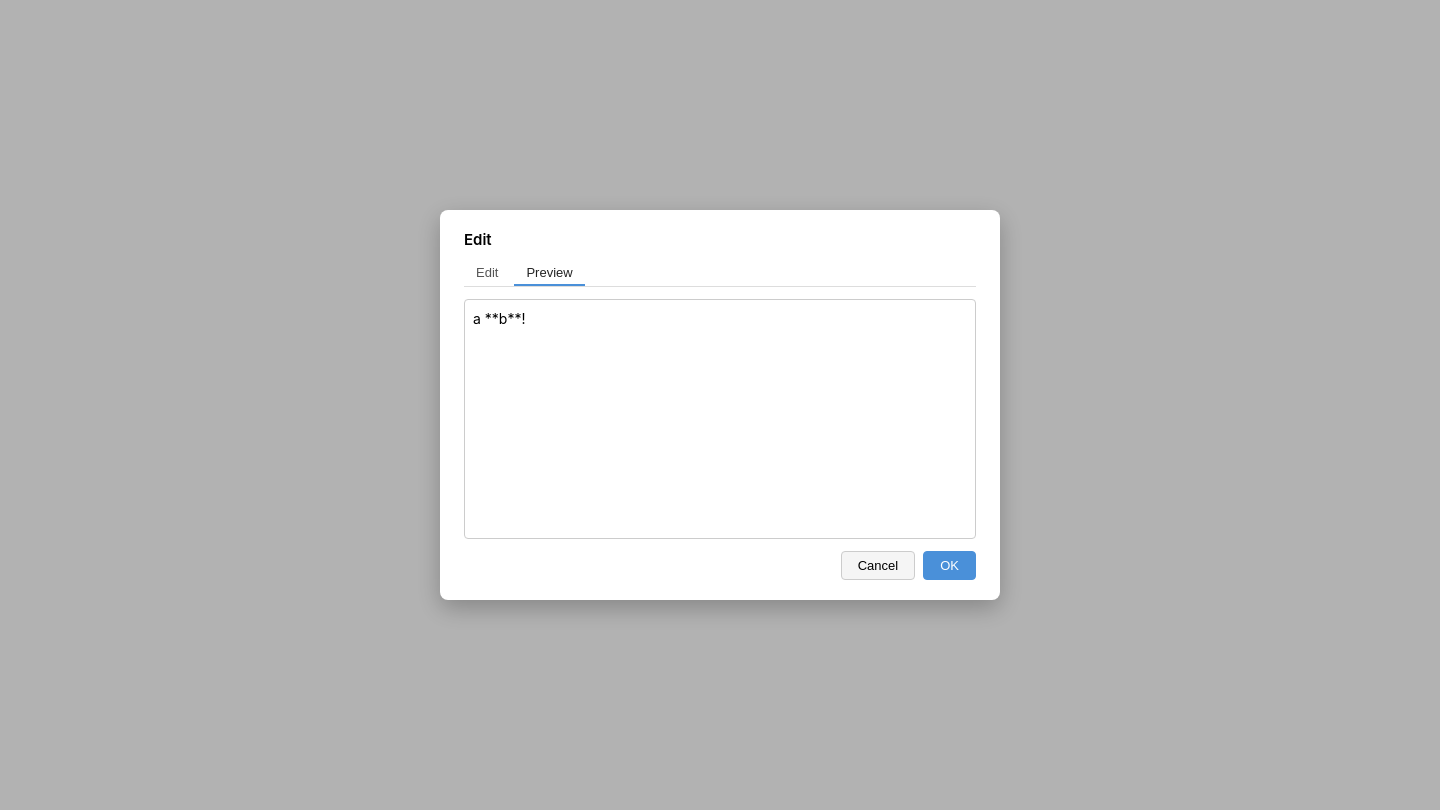
Test: the dialog of a text, alone › the Preview draws the HTML given for what is written, lets it be finished, and opens no link
The width and height of the screenshot is (1440, 810).
Earlier steps of the test are not shown.
Step 1. Click the tab "Edit" → click(487, 274), box [464,261,510,286]
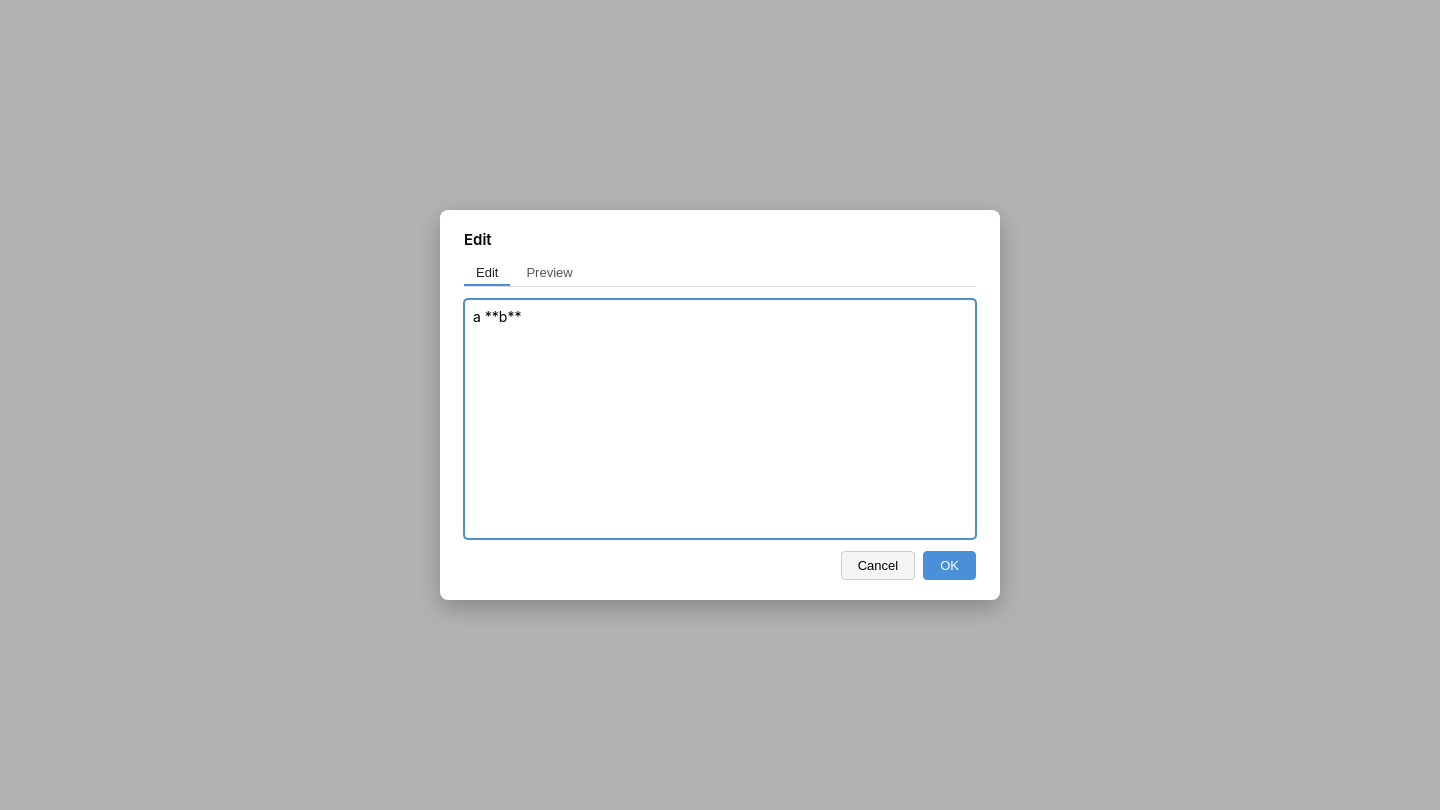
Result: the text box holds "a **b**" at [464,299,976,539]
